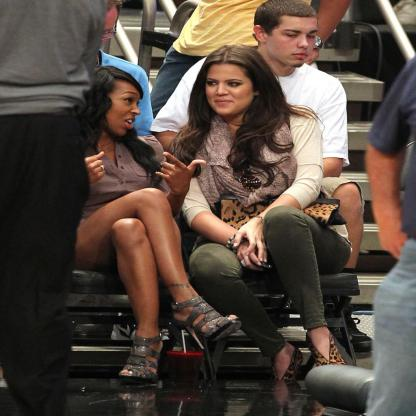face: (266, 9, 317, 68), (205, 63, 256, 116), (99, 79, 141, 136)
